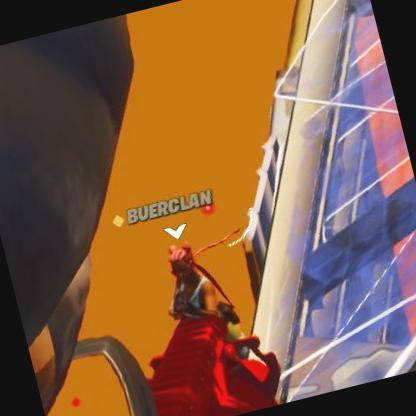person: (164, 240, 223, 324)
